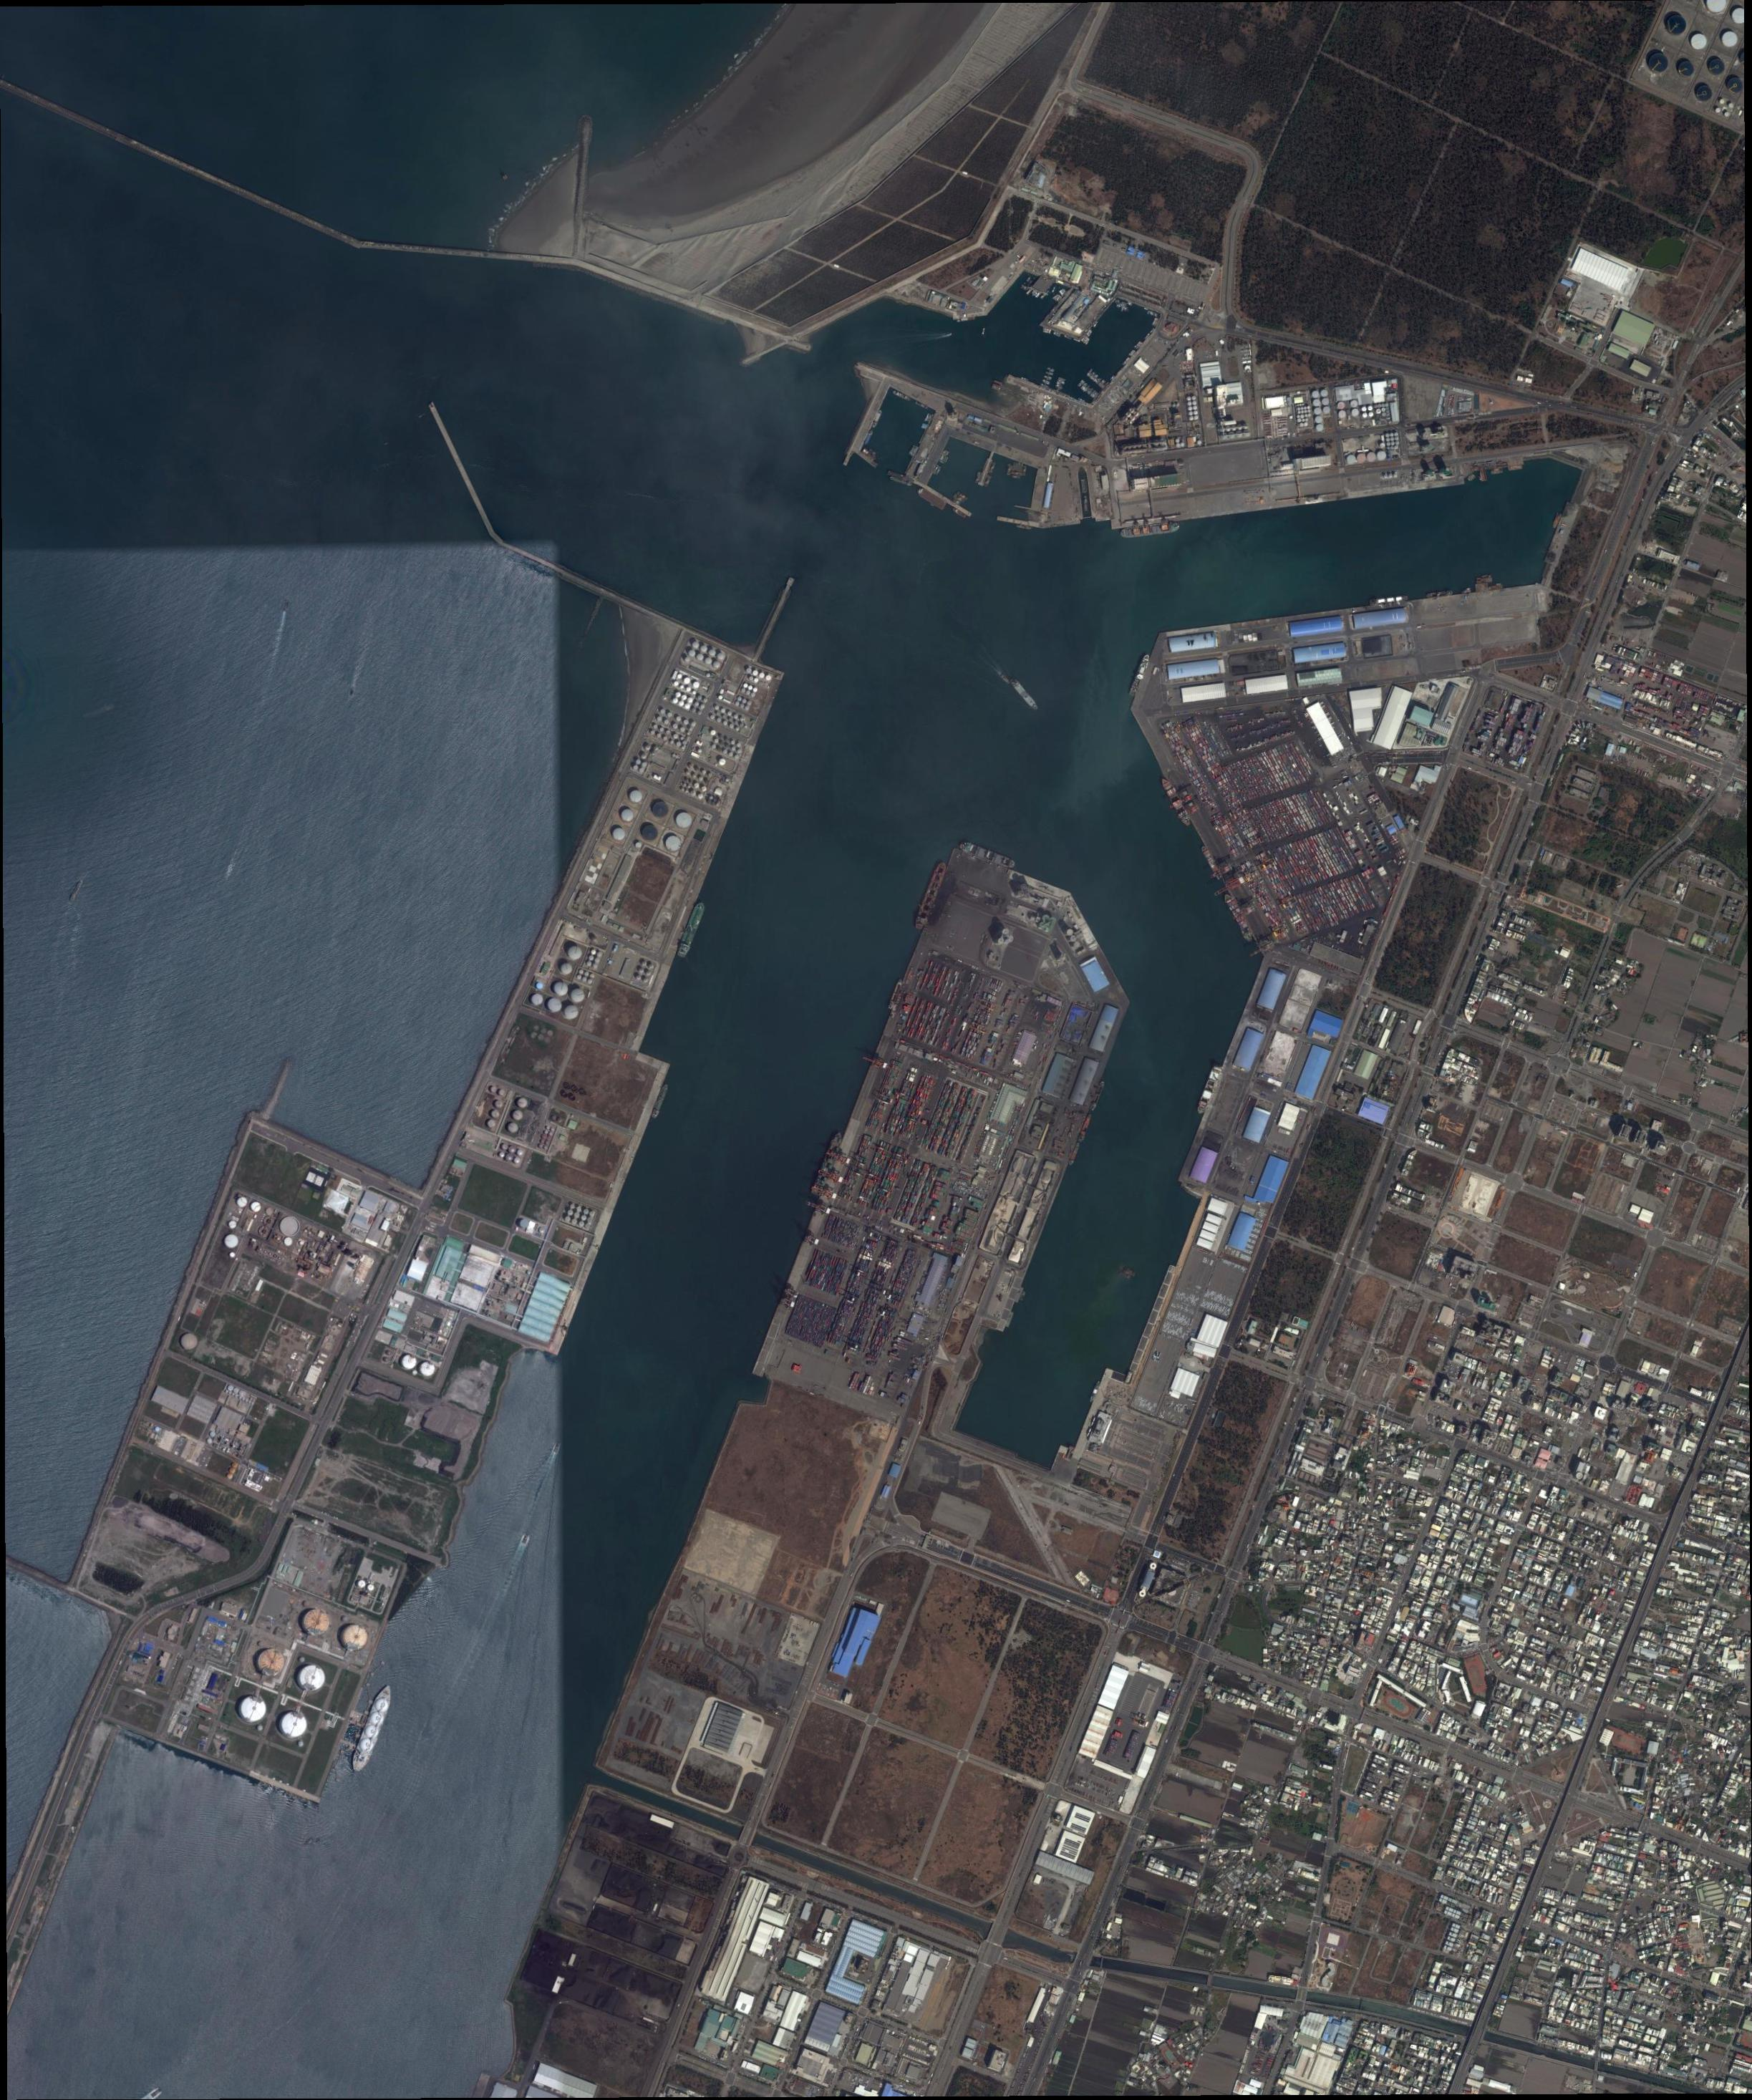harbor: (429, 401, 496, 535), (752, 576, 796, 663), (977, 452, 996, 487), (998, 516, 1030, 527)
ship: (349, 1683, 396, 1774), (913, 860, 948, 931), (810, 1132, 845, 1197), (675, 900, 707, 959), (1160, 776, 1194, 828), (960, 841, 1017, 870), (1222, 893, 1255, 944), (1195, 1064, 1222, 1116), (1009, 677, 1040, 712), (1120, 522, 1181, 539), (1127, 654, 1152, 698), (1201, 844, 1225, 881), (916, 487, 946, 511), (651, 1083, 670, 1120), (886, 978, 904, 1012), (1089, 1080, 1106, 1113), (1077, 1113, 1094, 1144), (1370, 595, 1410, 605), (1068, 1142, 1082, 1167), (1089, 1380, 1101, 1404), (1426, 590, 1454, 598), (1551, 513, 1564, 530), (873, 410, 883, 429), (893, 391, 913, 401), (864, 429, 874, 447), (953, 508, 967, 518), (916, 401, 930, 410)
